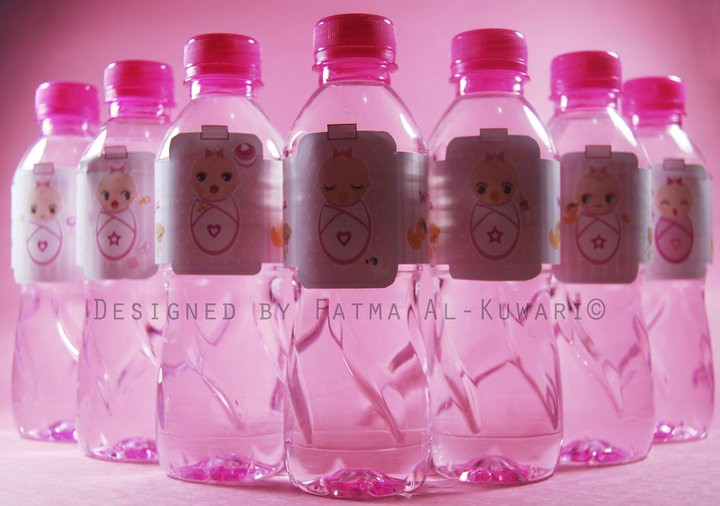Bottle: (255, 12, 423, 506), (413, 21, 556, 494), (132, 25, 281, 476), (518, 36, 638, 473), (66, 42, 173, 488), (615, 65, 720, 451), (0, 65, 100, 445)
